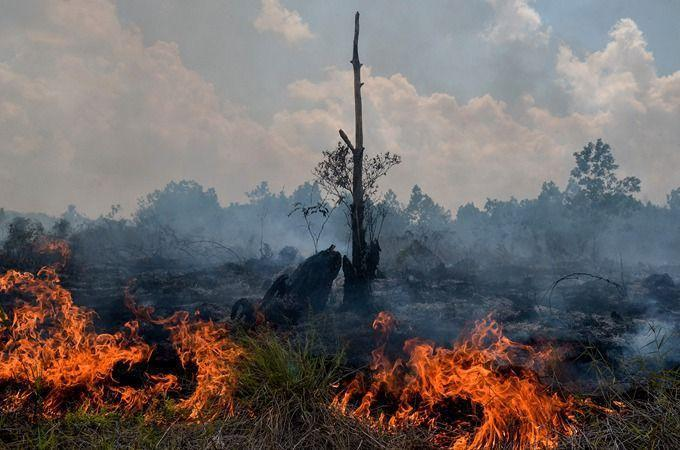fire: (7, 230, 247, 426), (319, 304, 636, 440)
